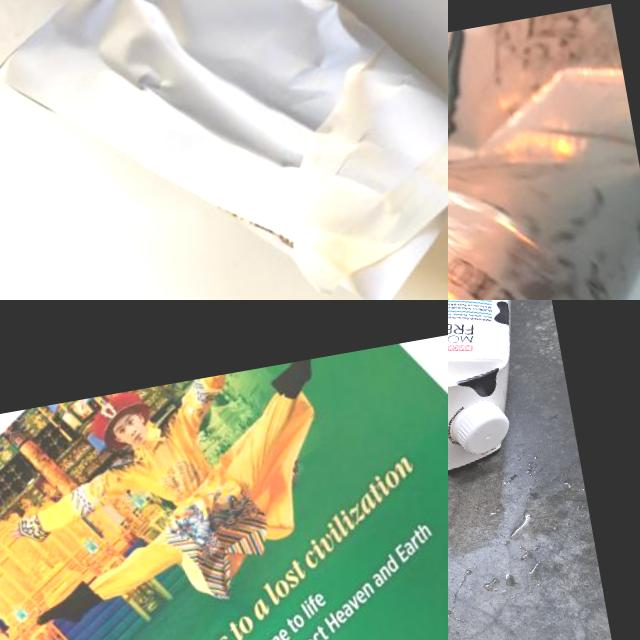caixinha: (448, 300, 553, 495)
lata: (448, 3, 640, 300)
papel: (0, 324, 448, 640), (0, 0, 448, 300)
tampa plástica: (448, 394, 512, 459)
